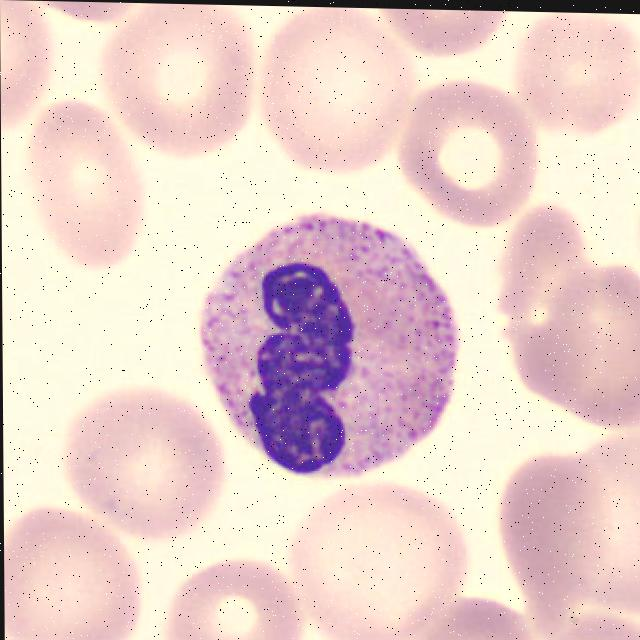neutrophil: (194, 203, 459, 487)
rbc: (292, 475, 466, 640), (255, 6, 415, 178), (92, 2, 251, 160), (63, 388, 226, 534), (501, 456, 620, 637), (30, 108, 149, 275), (4, 503, 148, 640), (395, 85, 537, 220), (497, 195, 590, 398), (526, 272, 640, 420), (519, 12, 640, 127), (167, 547, 298, 640), (579, 422, 640, 596), (0, 0, 55, 129), (365, 8, 506, 54), (416, 589, 531, 640), (537, 592, 640, 640), (36, 1, 132, 25), (635, 201, 640, 264)
